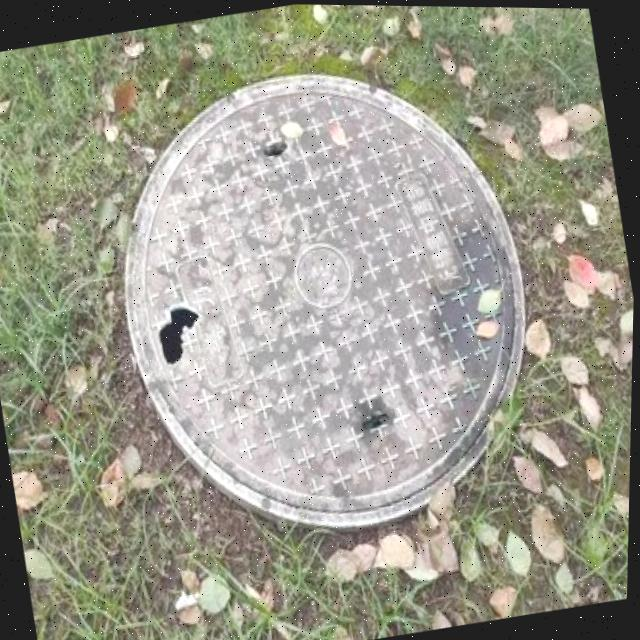manhole: (84, 36, 559, 557)
